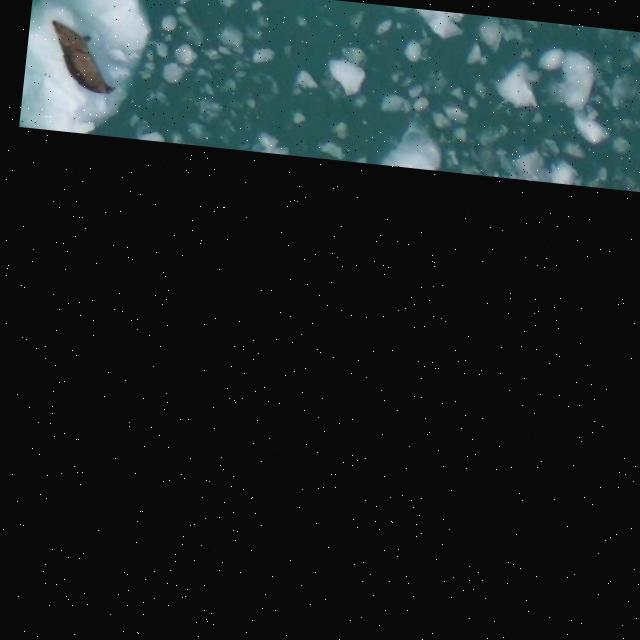seal: (46, 7, 115, 105)
